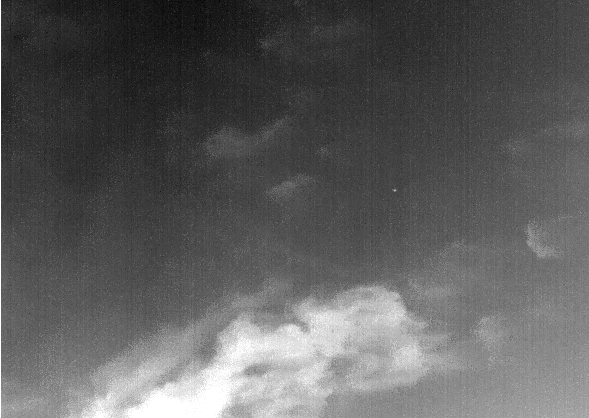dim target: (391, 187, 397, 192)
